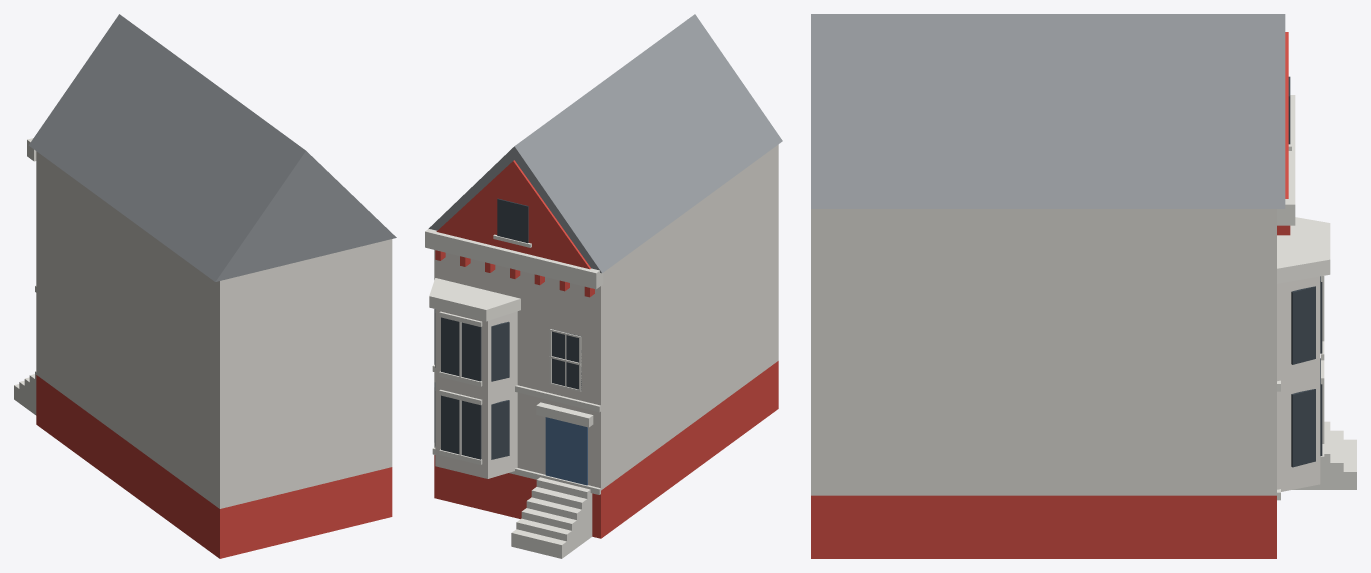
File: painted_lady.glb
The picture shows the model from 3 angles, left to right: view 1: azimuth 30°, elevation 25°; view 2: azimuth 150°, elevation 25°; view 3: azimuth 270°, elevation 25°; orthographic projection. The views are drawn at different scales.
Parts seen in each view (by area): view 1: painted_lady; view 2: painted_lady; view 3: painted_lady.
Boxes of the visible parts, x1,y1,x2,y2 form: painted_lady: (14, 14, 396, 558); painted_lady: (425, 14, 782, 558); painted_lady: (811, 14, 1356, 558).
Size of the model in its own units: 8 by 16.3 by 16.4.
